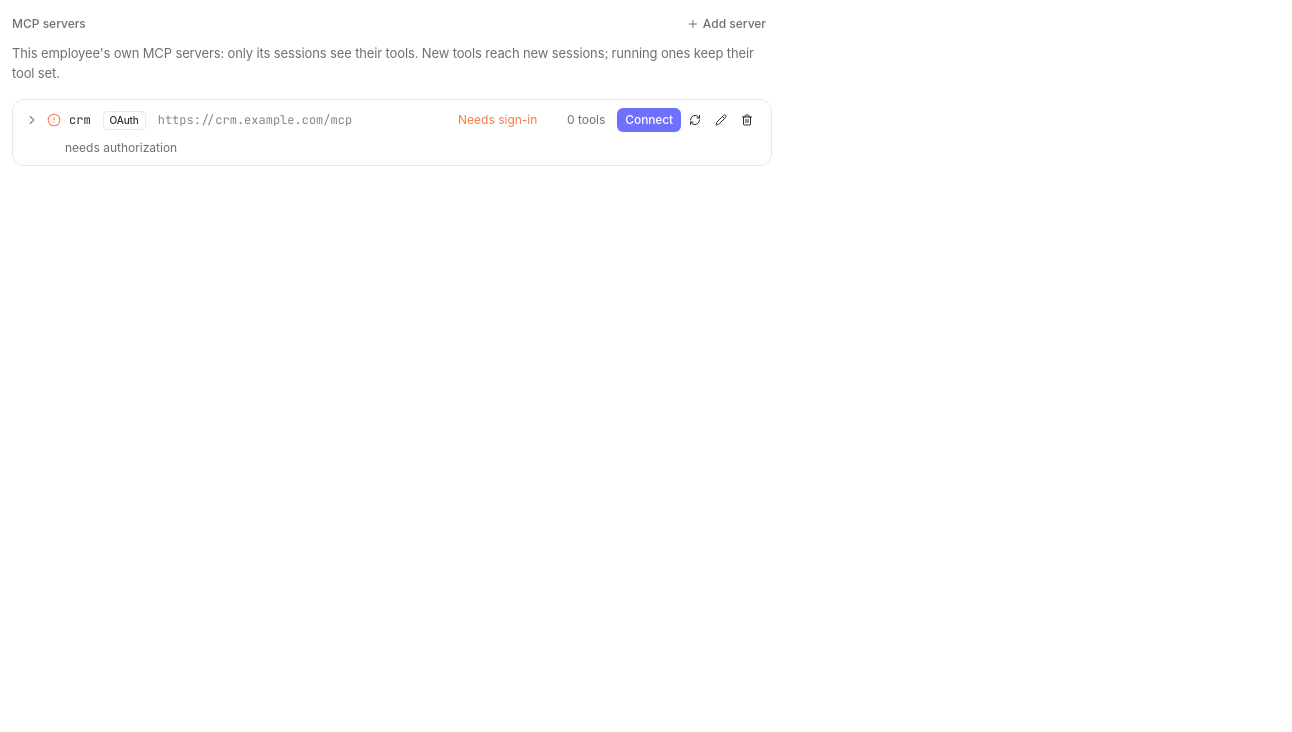
Test: MCP servers › in the mock, Connect signs in and lands back connected
The width and height of the screenshot is (1292, 732).
Click the button "Connect": point(649, 120) [617,108,681,132]
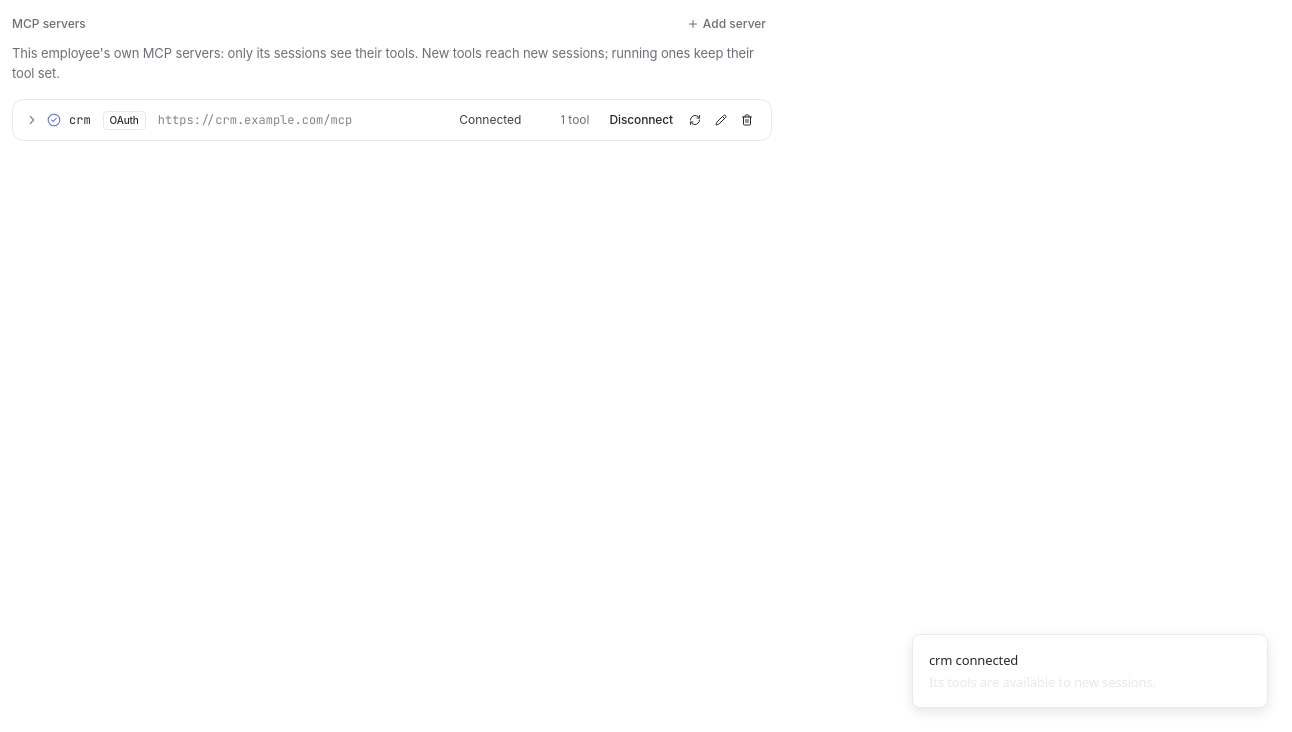
Check: the text "crm connected" is shown, box [929,651,1018,669]
Check: the text with test id "mcp-status" reads "Connected", box [459,112,522,127]
Check: the button "Disconnect" is shown, box [602,108,681,132]
